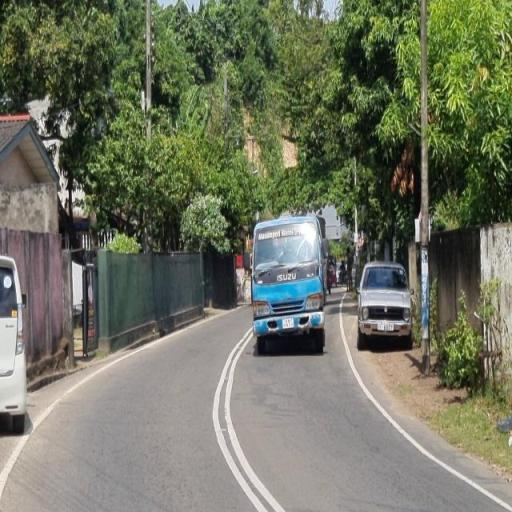double_white_line: (212, 326, 286, 511)
